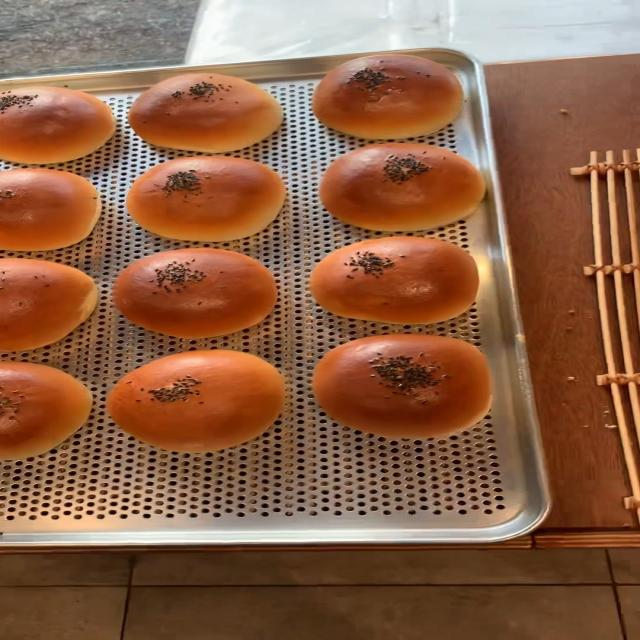bread: (307, 334, 500, 447), (110, 244, 286, 343), (307, 235, 490, 327), (107, 352, 281, 448), (311, 140, 488, 233), (125, 154, 294, 242), (126, 64, 282, 154), (307, 52, 468, 139), (1, 256, 94, 352), (0, 359, 89, 459), (0, 82, 113, 158)
